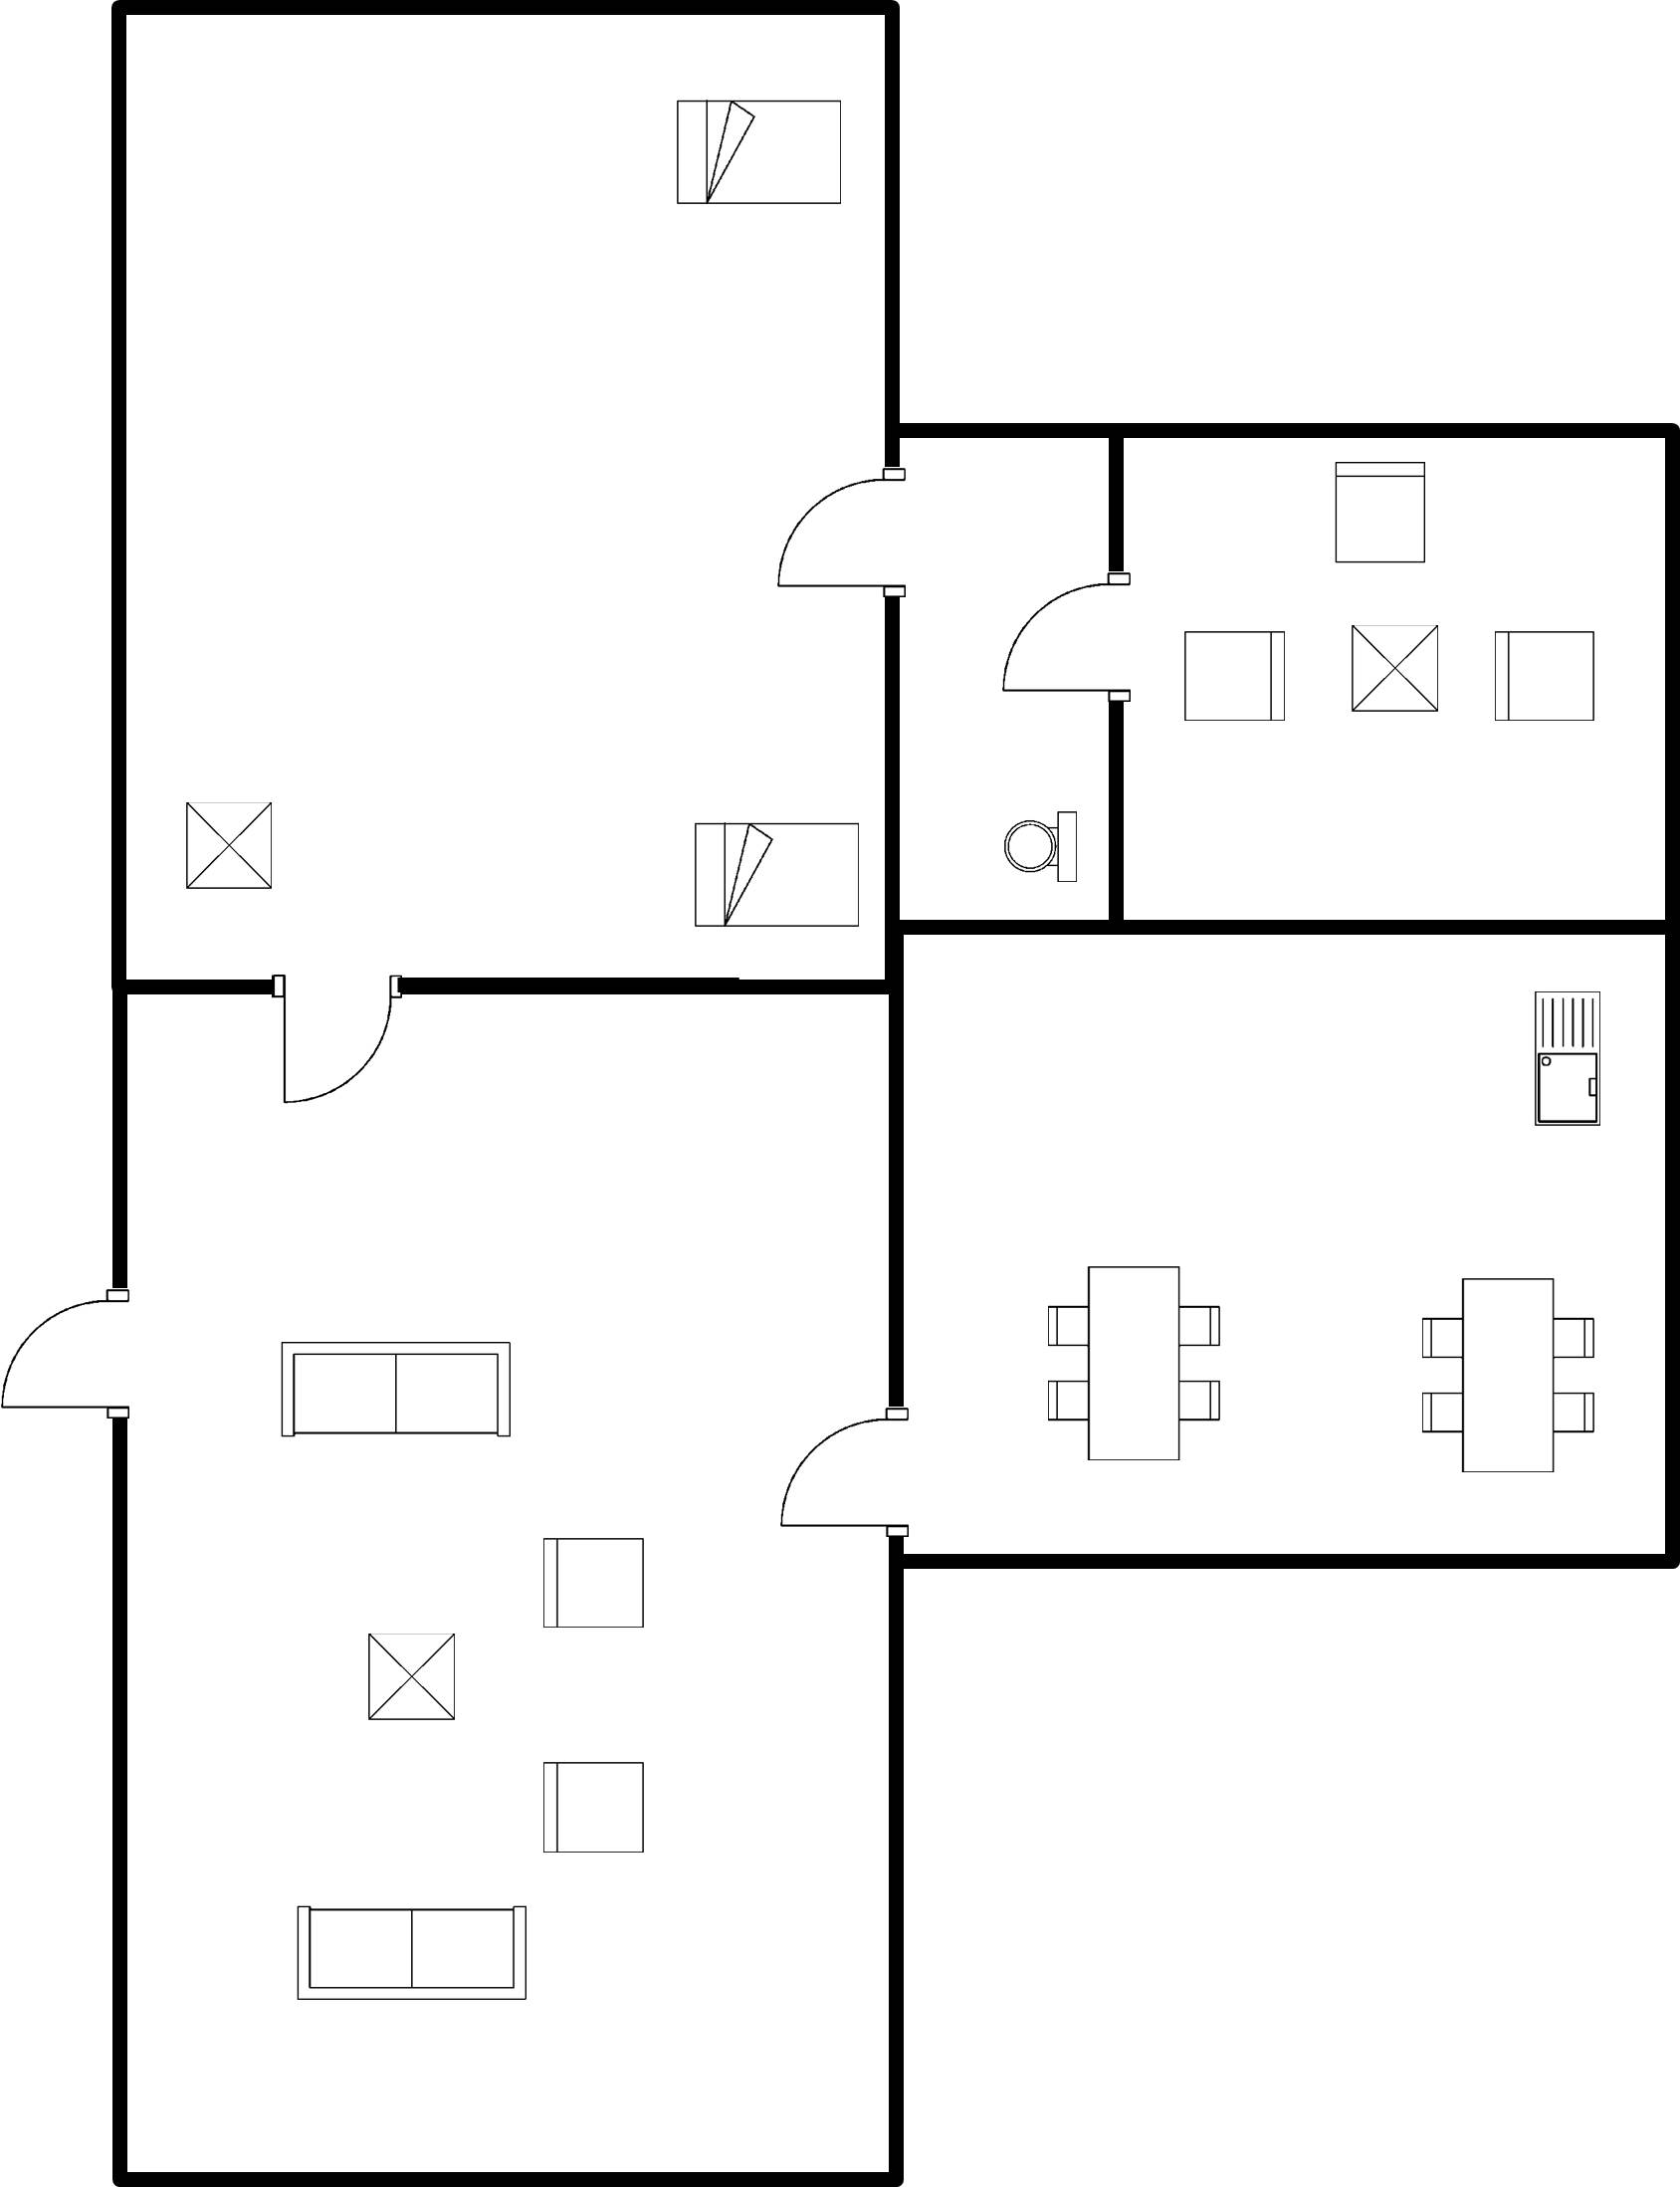bed: (666, 87, 852, 218), (679, 811, 867, 939)
coffee_table: (1332, 612, 1451, 732), (354, 1623, 471, 1742), (177, 783, 285, 902)
dining_table: (1410, 1259, 1609, 1491), (1033, 1253, 1230, 1471)
large_sink: (988, 798, 1094, 896)
large_sofa: (257, 1329, 523, 1454), (281, 1895, 542, 2019)
sink: (1518, 974, 1615, 1141)
small_sofa: (1317, 444, 1440, 580), (1174, 612, 1300, 734), (525, 1521, 659, 1639), (531, 1748, 655, 1867), (1477, 619, 1604, 736)
